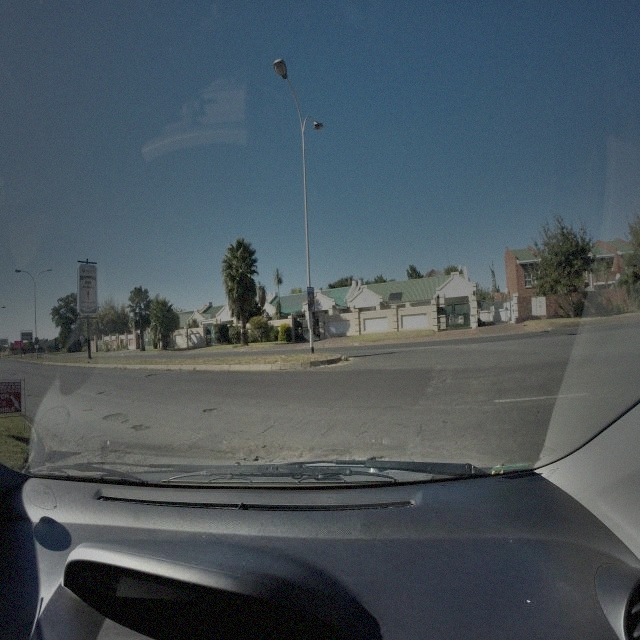pothole: (102, 411, 128, 424), (130, 423, 150, 433), (202, 407, 217, 413), (146, 372, 160, 378), (96, 389, 105, 395)
